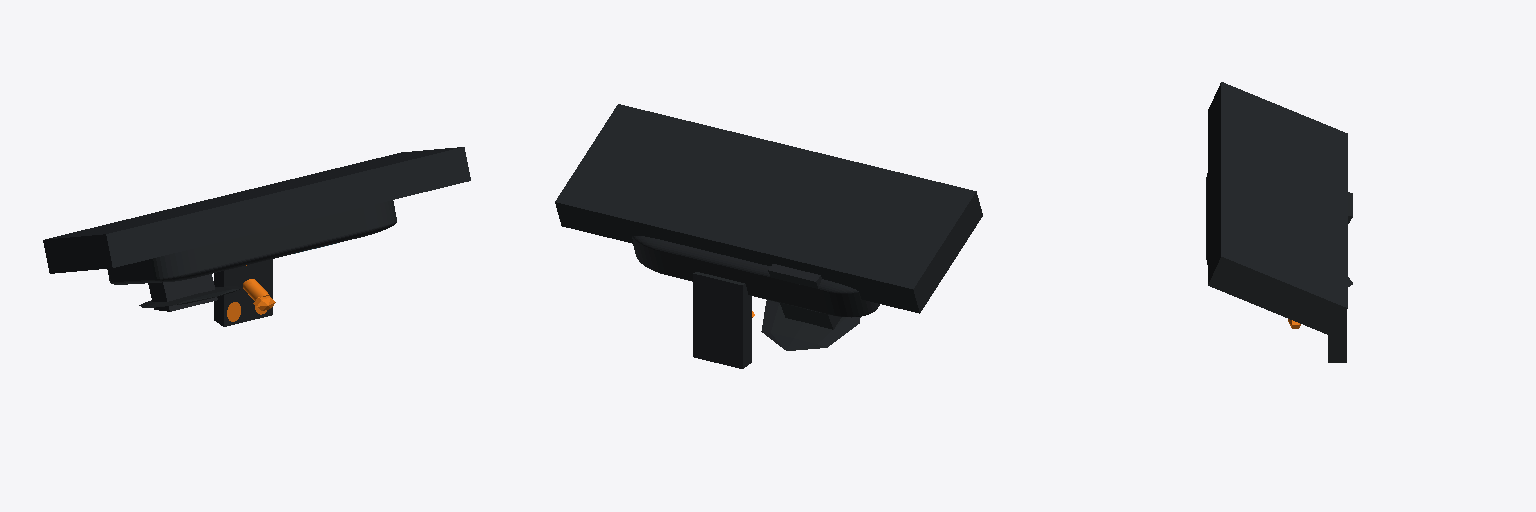
Rendered from tinker.obj.
3 renders of one model, left to right at view 1: azimuth 30°, elevation 25°; view 2: azimuth 150°, elevation 25°; view 3: azimuth 270°, elevation 25°, orthographic.
Visible parts, largest first — view 1: obj_0; view 2: obj_0; view 3: obj_0.
Part boxes in pixels (x1,y1,x2,y2): obj_0: (43, 147, 470, 326); obj_0: (555, 104, 982, 368); obj_0: (1206, 82, 1352, 362).
Size of the model in its own units: 246 by 114 by 87.45.